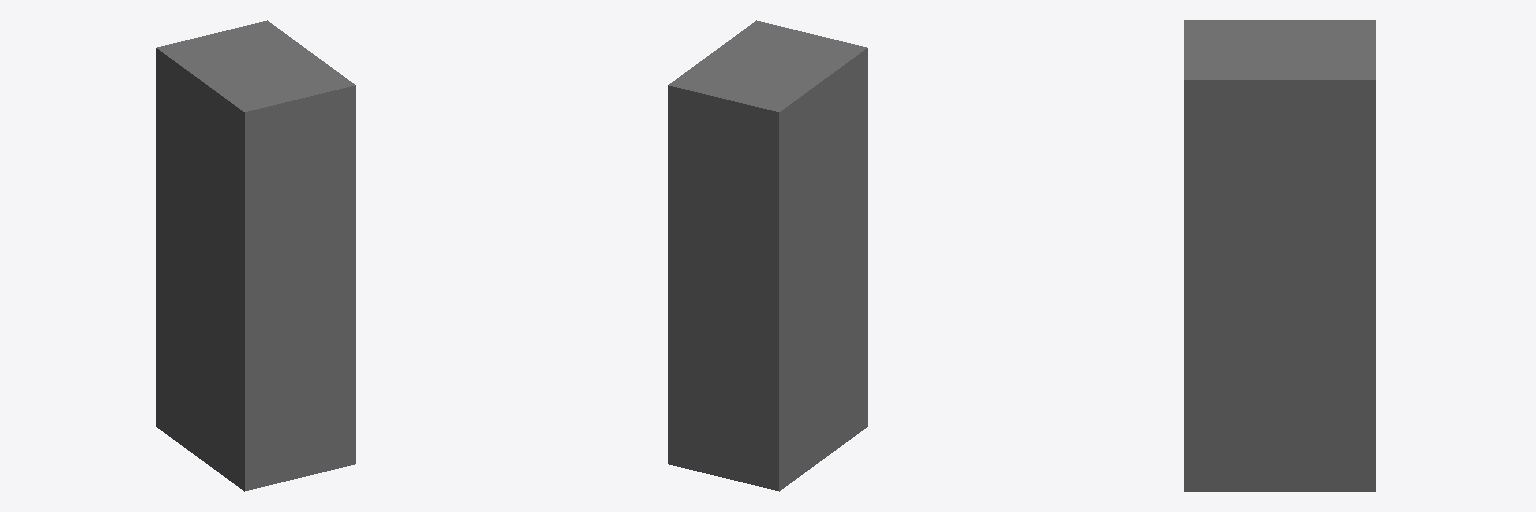
URDF robot description (room73b2-iemon):
<?xml version="1.0"?>
<robot name="room73b2-iemon"
       xmlns:xi="http://www.w3.org/2001/XInclude"
       >
  <gazebo>
    <static>false</static>
  </gazebo>
  <link name="nil_link">
    <visual>
      <origin xyz="0 0 0" rpy="0 -0 0"/>
      <geometry>
        <mesh filename="model://room73b2-iemon/meshes/nil_link_mesh.dae" scale="1 1 1" />
      </geometry>
    </visual>
    <collision>
      <origin xyz="0 0 0" rpy="0 -0 0"/>
      <geometry>
        <mesh filename="model://room73b2-iemon/meshes/nil_link_mesh.dae" scale="1 1 1" />
      </geometry>
    </collision>
    <inertial>
      <mass value="0.001" />
      <origin xyz="0 0 0" rpy="0 -0 0"/>
      <inertia ixx="1e-03" ixy="0" ixz="0" iyy="1e-03" iyz="0" izz="1e-03"/>
    </inertial>
  </link>
  <gazebo reference="nil_link">
    <mu1>0.9</mu1>
    <mu2>0.9</mu2>
  </gazebo>
</robot>

--- What the picture shows (computed from the rendered views, not written in the file) ---
Views: 3 orthographic renders of the robot side by side, from view 1: azimuth 30°, elevation 25°; view 2: azimuth 150°, elevation 25°; view 3: azimuth 270°, elevation 25°.
Model room73b2-iemon with 1 links and 0 joints (none), rooted at nil_link, posed all joints at 0.
Visible links, largest first — view 1: nil_link; view 2: nil_link; view 3: nil_link.
Link boxes in pixels (x1,y1,x2,y2): nil_link: [156, 20, 355, 491]; nil_link: [668, 20, 867, 491]; nil_link: [1184, 20, 1375, 491].
Bounding box of the posed robot: 0.04 × 0.055 × 0.13 m (x, y, z).
1 mesh visuals loaded from 1 distinct referenced files (1 Collada DAE).